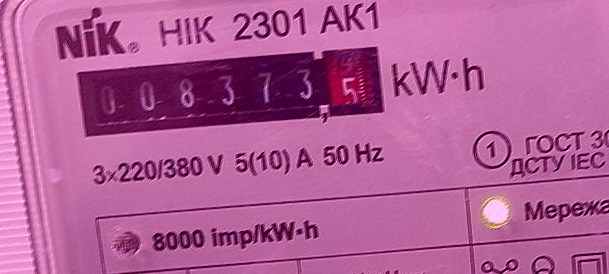0: (95, 79, 118, 117), (135, 75, 157, 112)
3: (291, 62, 316, 101), (214, 69, 237, 107)
4: (336, 51, 355, 73)
5: (338, 72, 360, 103)
7: (253, 65, 274, 105)
8: (174, 72, 198, 109)
screen: (70, 37, 392, 148)
